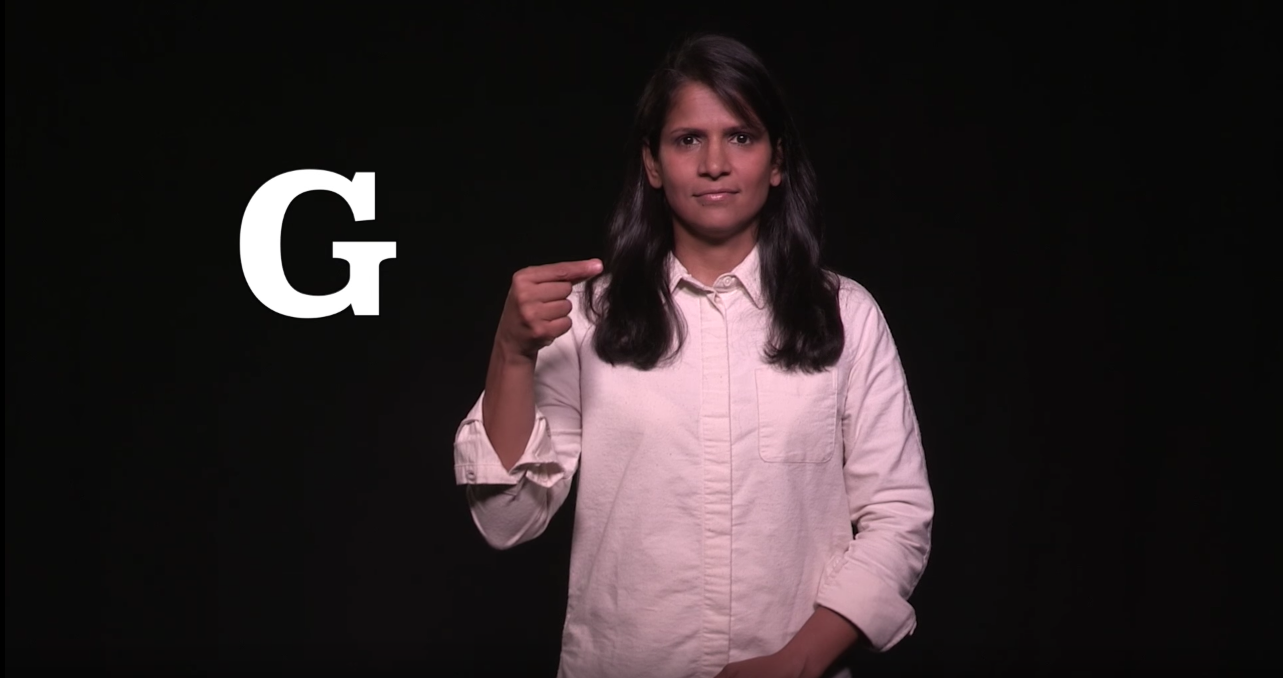g: (484, 250, 624, 363)
